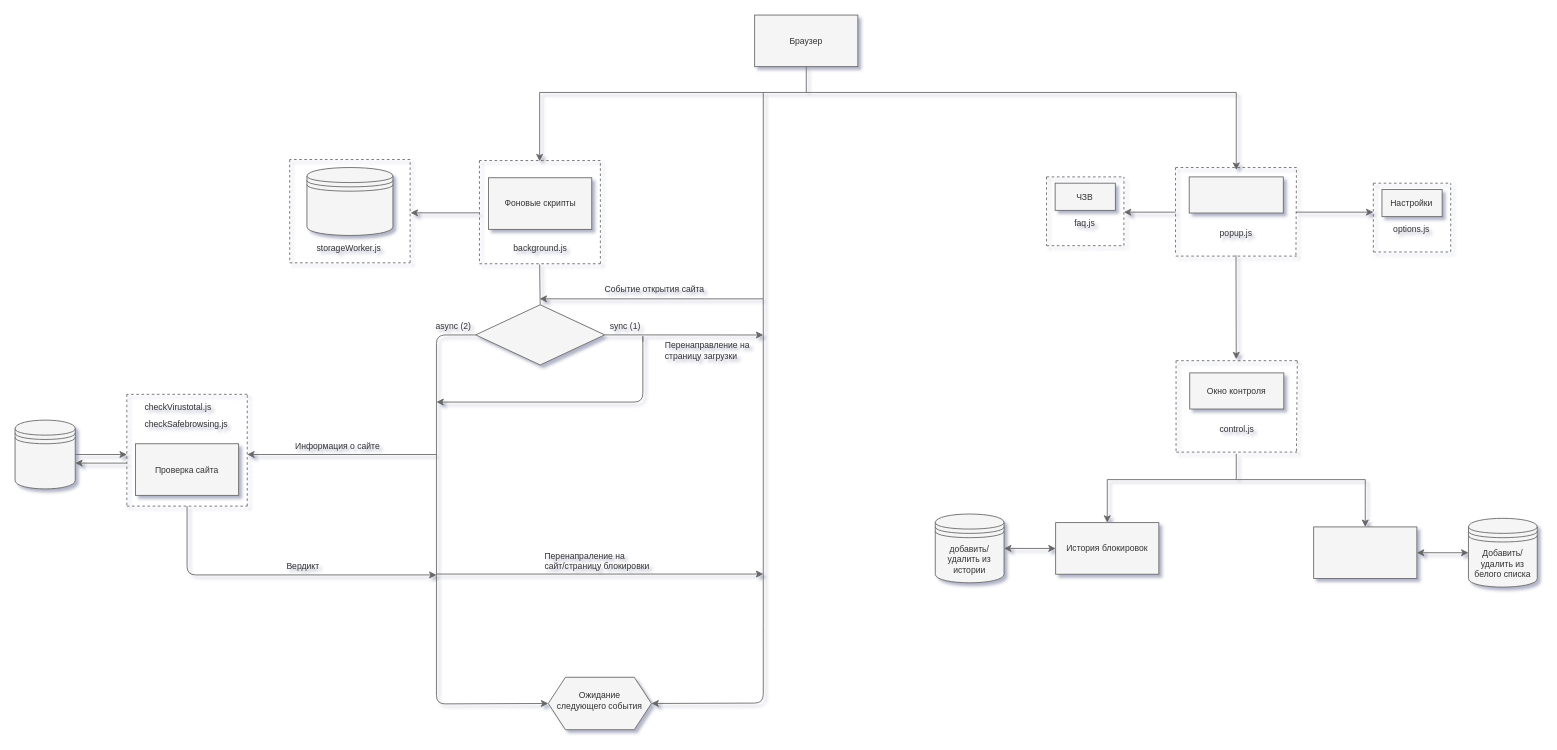
This 1557x750 diagram has some shape labels left out. Here are the shapes that lost their labels. From the top down, the centre of each, then its label:
the point at 349,201: Инициализация баз данных
the point at 1235,194: Главное окно расширения
the point at 540,334: Какой режим?
the point at 44,454: Кэширование и обращение к кэшу
the point at 1365,552: Белый список
